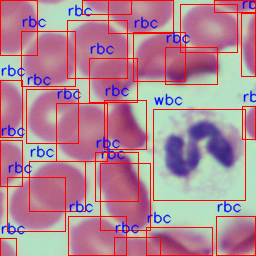rbc: (67, 20, 127, 78), (100, 163, 150, 230), (7, 177, 65, 231), (21, 31, 75, 86), (56, 103, 107, 161), (26, 89, 78, 143), (29, 161, 85, 211), (180, 4, 237, 52), (133, 32, 185, 81), (68, 216, 126, 255), (108, 0, 173, 33), (89, 58, 137, 102), (95, 152, 138, 201), (104, 100, 146, 149), (0, 0, 37, 55), (165, 47, 217, 84), (146, 227, 212, 255), (216, 216, 255, 255), (0, 80, 22, 137), (0, 140, 22, 186), (241, 13, 255, 76), (114, 237, 160, 256), (82, 0, 131, 14), (214, 0, 255, 12), (242, 106, 255, 139), (0, 238, 16, 256)
wbc: (153, 109, 245, 200)
